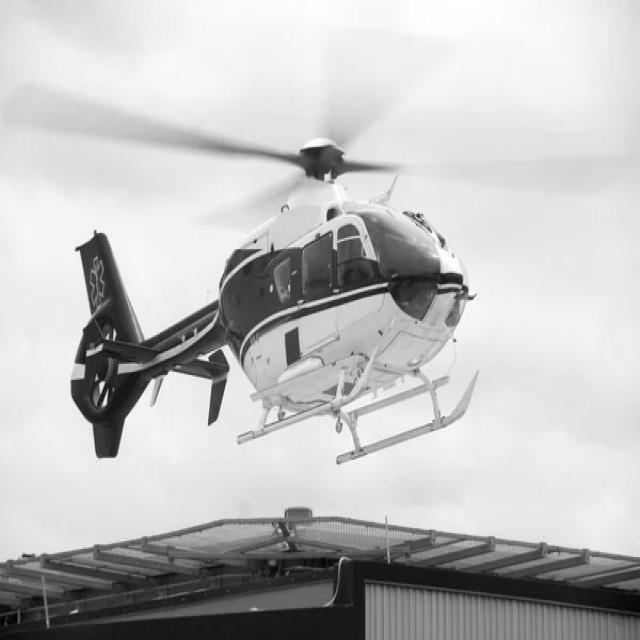Helicopter: (10, 84, 479, 463)
